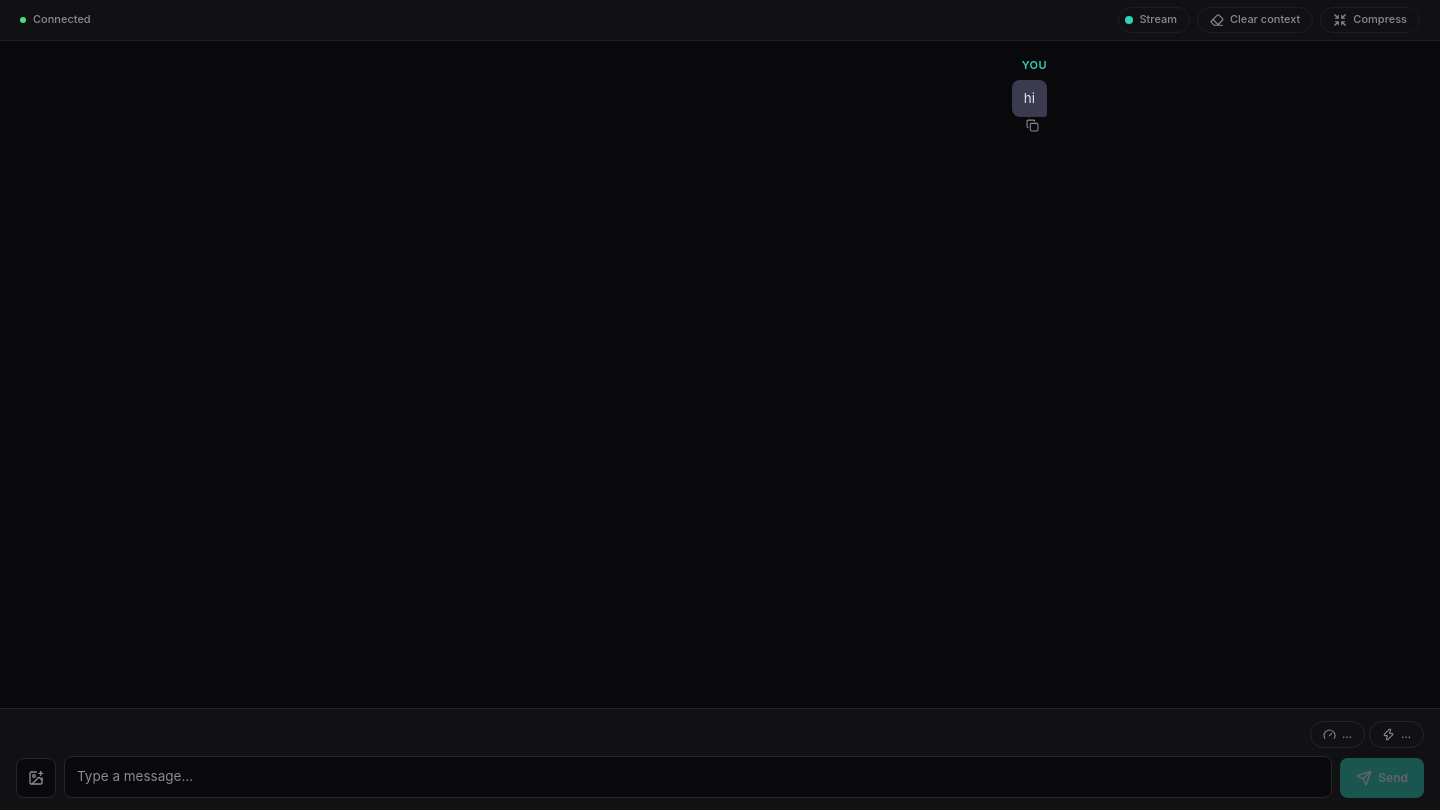
ChatWindow › should show a failure notice when compression throws
The image size is (1440, 810).
What coordinates should you click on to do the following:
click the button with test id "compress-context"
I would click on:
 (1370, 20)
Its box is [1320, 7, 1420, 33].
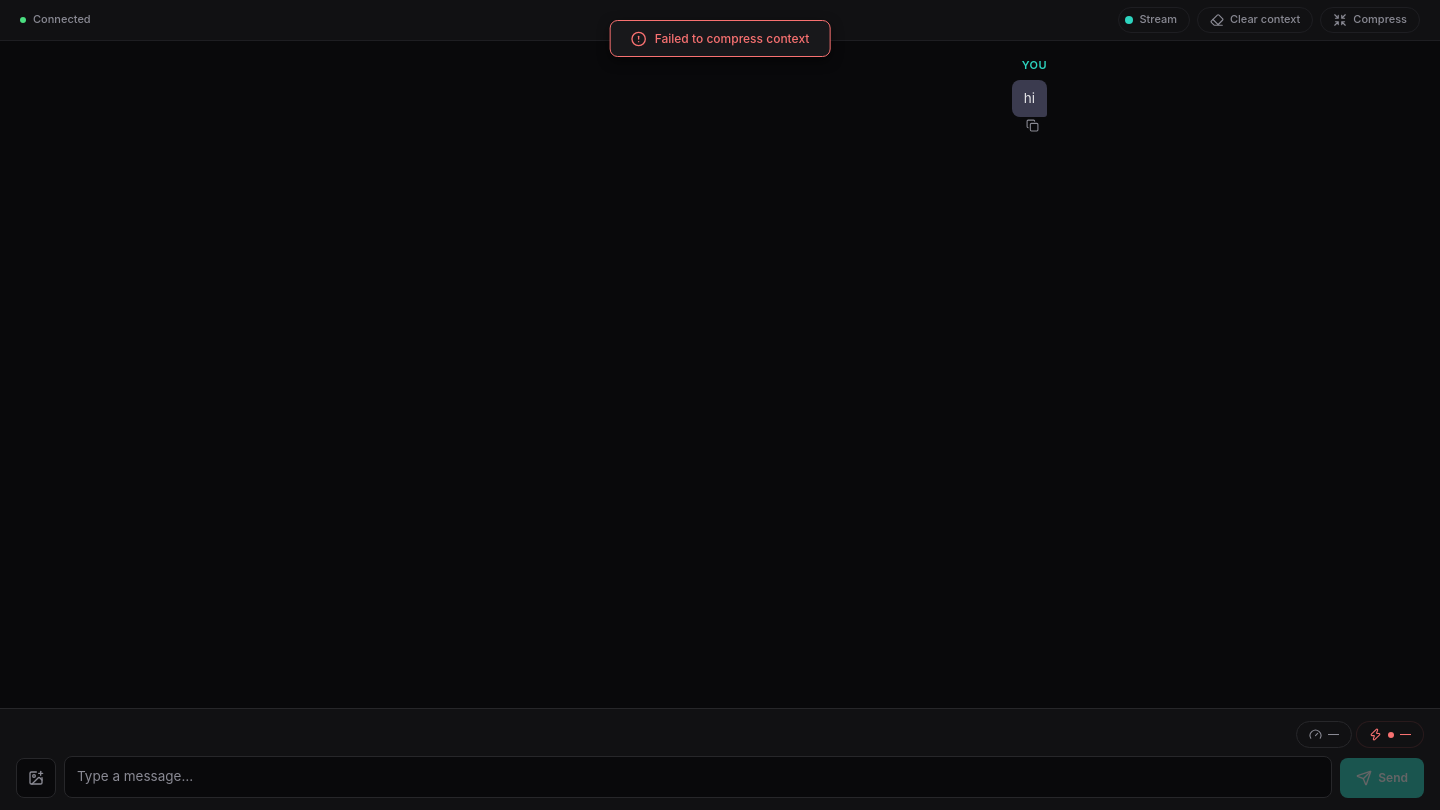
Check: the text "Failed to compress context" is shown, box [610, 20, 830, 57]
